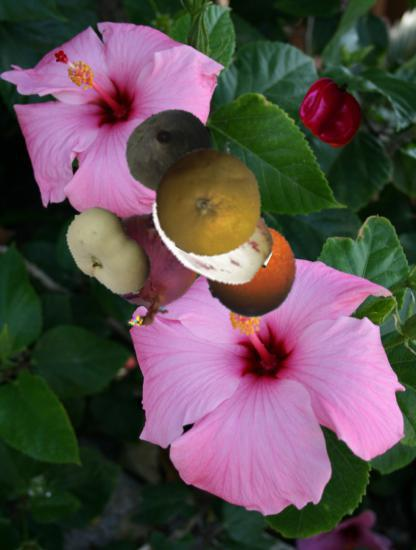Beetroot: (124, 104, 217, 197)
Granadilla: (197, 214, 302, 319)
Grapefruit: (153, 145, 266, 258)
Onion: (91, 209, 210, 328)
Peach: (59, 202, 160, 303)
Pepino: (144, 165, 276, 297)
Pepper: (297, 77, 368, 148)
